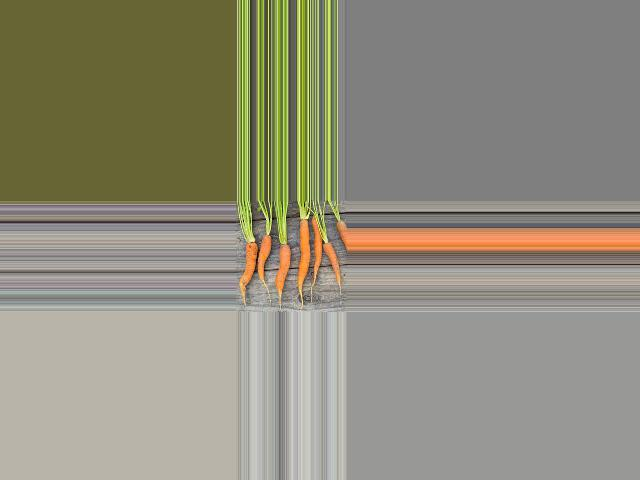carrot: (331, 209, 347, 241)
